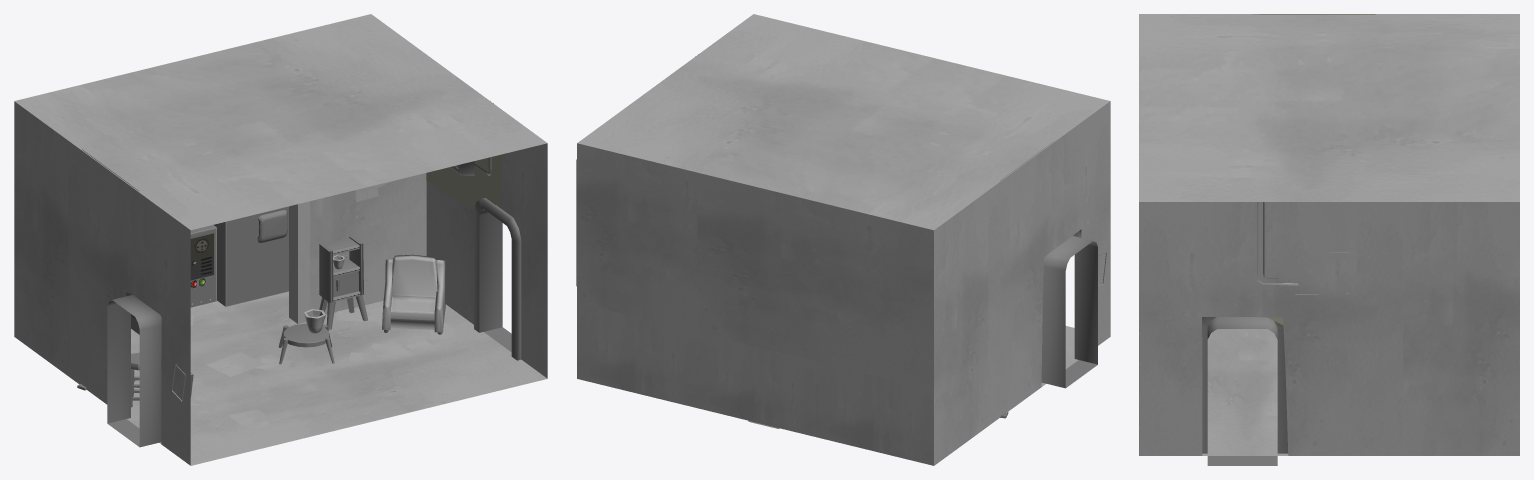
The model's file is MSH_QuestVault_L4_R1_optimized.fbx.
3 views of the same model, side by side, from view 1: azimuth 30°, elevation 25°; view 2: azimuth 150°, elevation 25°; view 3: azimuth 270°, elevation 25° (orthographic). The views are drawn at different scales.
Parts seen in each view (by area): view 1: lightmap4, lightmap3, lightmap2, lightmap0, MSH_QuestVault_L4_R1_Papers_01, lightmap1, MSH_QuestVault_L4_R1_Dirt_01; view 2: lightmap3, lightmap4, lightmap2; view 3: lightmap3, lightmap4, lightmap1, lightmap2, lightmap0.
Boxes of the visible parts, bbox=[...] form: lightmap4: bbox=[14, 14, 547, 465]; lightmap3: bbox=[14, 101, 547, 465]; lightmap2: bbox=[77, 161, 511, 447]; lightmap0: bbox=[134, 103, 493, 381]; MSH_QuestVault_L4_R1_Papers_01: bbox=[190, 181, 455, 425]; lightmap1: bbox=[124, 198, 521, 360]; MSH_QuestVault_L4_R1_Dirt_01: bbox=[82, 149, 501, 292]; lightmap3: bbox=[577, 101, 1110, 465]; lightmap4: bbox=[577, 14, 1110, 386]; lightmap2: bbox=[748, 236, 1106, 428]; lightmap3: bbox=[1139, 202, 1519, 455]; lightmap4: bbox=[1139, 14, 1519, 455]; lightmap1: bbox=[1202, 317, 1288, 453]; lightmap2: bbox=[1207, 252, 1348, 465]; lightmap0: bbox=[1257, 202, 1298, 285].
Size of the model in its own units: 10.3 by 5.97 by 7.97.
Materials: 4 (4 with a texture image).
